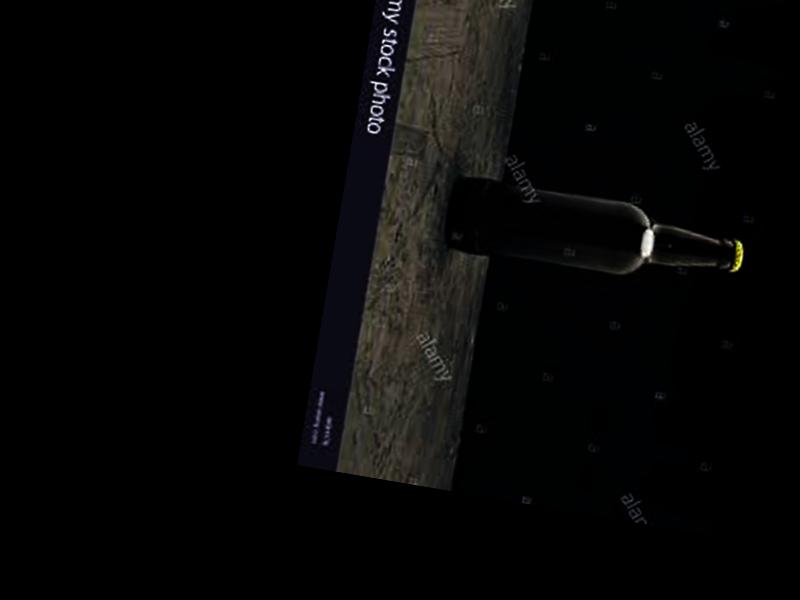Beer: (444, 180, 747, 296)
